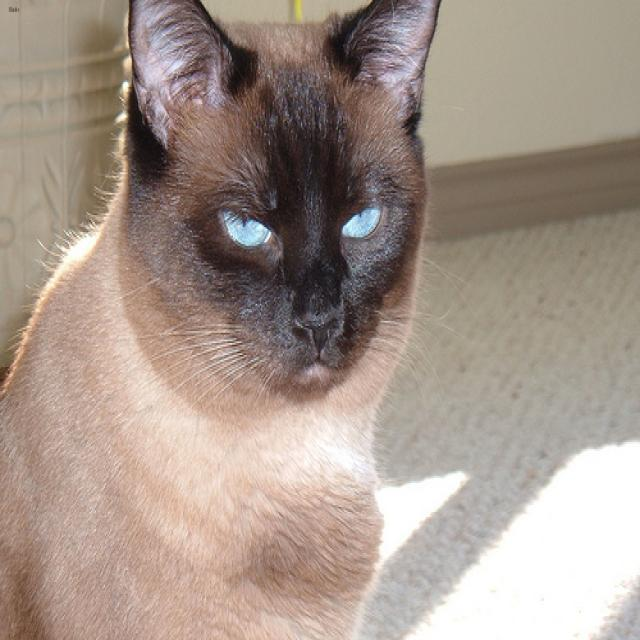Siamese: (124, 0, 446, 397)
